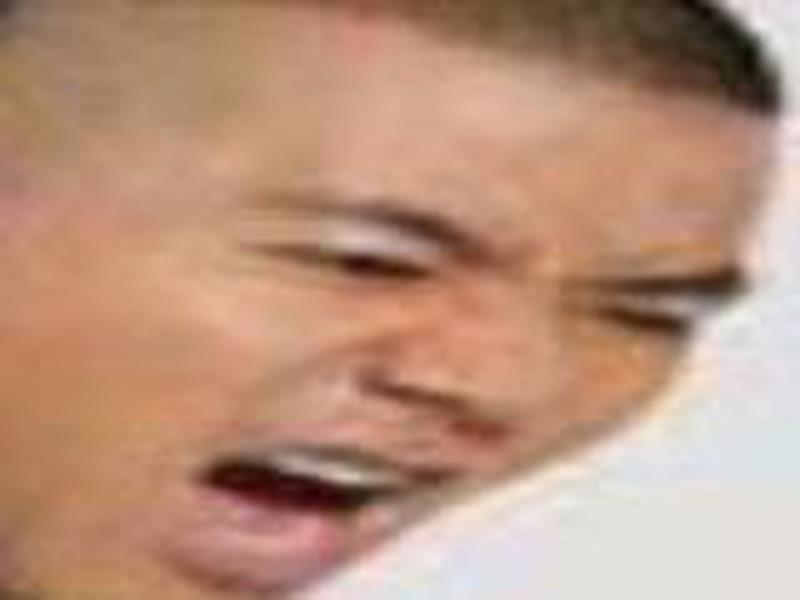without_mask: (6, 4, 780, 600)
